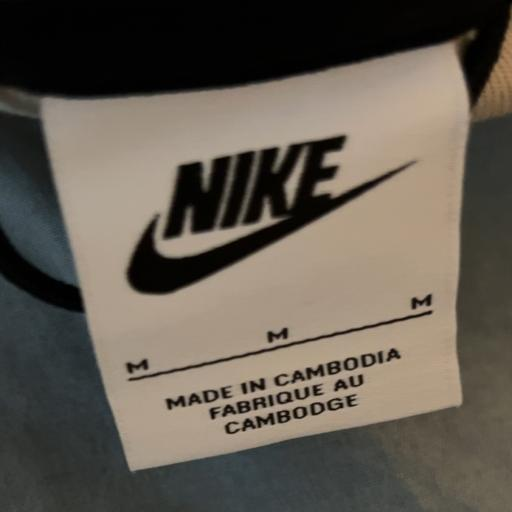paper: (3, 71, 512, 512)
